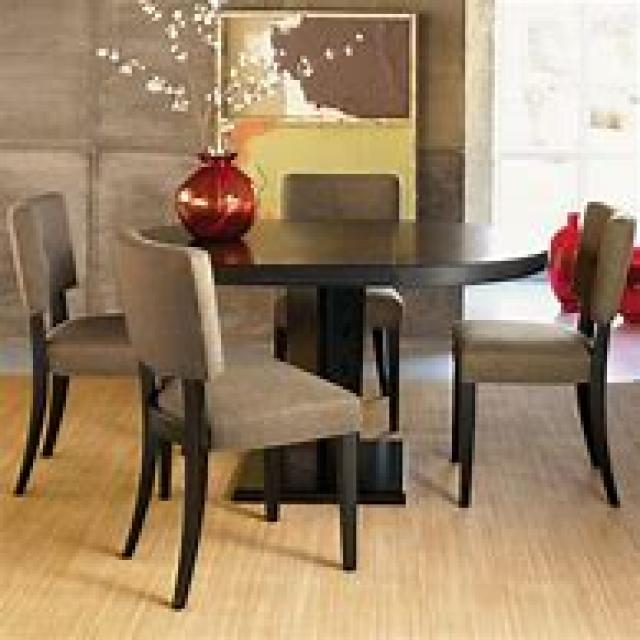chair: (112, 222, 360, 608), (449, 198, 633, 508), (3, 188, 172, 497), (270, 170, 402, 432)
table: (132, 216, 548, 511)
